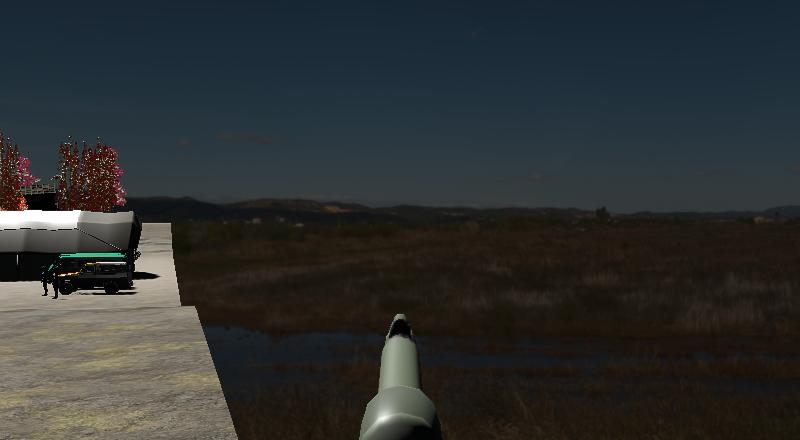car: (48, 257, 136, 298), (49, 251, 132, 282)
